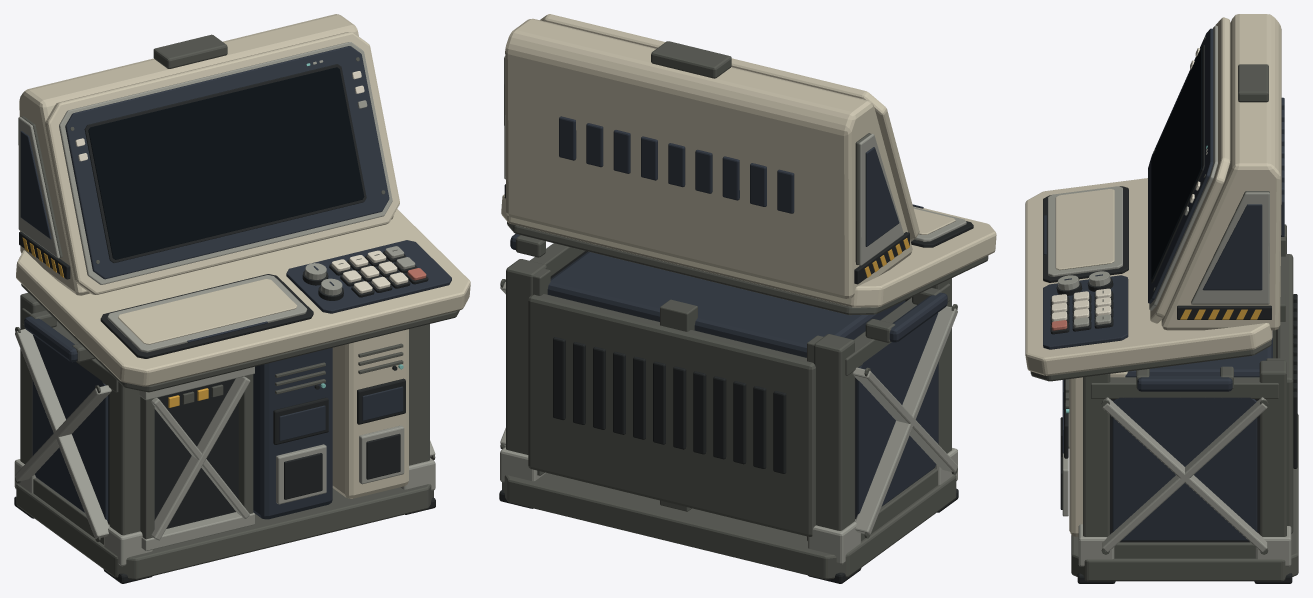
The model's file is TerminalDeCampo.fbx.
3 views of the same model, side by side, from view 1: azimuth 30°, elevation 25°; view 2: azimuth 150°, elevation 25°; view 3: azimuth 270°, elevation 25° (orthographic). The views are drawn at different scales.
Visible parts, largest first — view 1: Modulos_frontales, Bastidor, Pantalla, Cabezal, Carcasa, Controles, Mandos_del_monitor; view 2: Cabezal, Bastidor, Carcasa, Mandos_del_monitor, Controles; view 3: Bastidor, Cabezal, Carcasa, Controles, Mandos_del_monitor, Pantalla, Modulos_frontales.
Part boxes in pixels (left/top/right/bottom): Modulos_frontales: left=139, top=329, right=408, bottom=550; Bastidor: left=14, top=293, right=435, bottom=583; Pantalla: left=84, top=64, right=366, bottom=262; Cabezal: left=19, top=14, right=399, bottom=295; Carcasa: left=16, top=209, right=470, bottom=392; Controles: left=100, top=240, right=451, bottom=358; Mandos_del_monitor: left=18, top=34, right=385, bottom=279; Cabezal: left=505, top=14, right=919, bottom=298; Bastidor: left=499, top=234, right=958, bottom=583; Carcasa: left=501, top=194, right=996, bottom=540; Mandos_del_monitor: left=504, top=41, right=909, bottom=284; Controles: left=911, top=204, right=973, bottom=247; Bastidor: left=1071, top=224, right=1298, bottom=583; Cabezal: left=1148, top=14, right=1281, bottom=330; Carcasa: left=1025, top=178, right=1297, bottom=533; Controles: left=1043, top=186, right=1128, bottom=349; Mandos_del_monitor: left=1153, top=36, right=1284, bottom=319; Pantalla: left=1151, top=45, right=1204, bottom=283; Modulos_frontales: left=1060, top=371, right=1127, bottom=536.
Size of the model in its own units: 1.45 by 1.69 by 0.9739.
